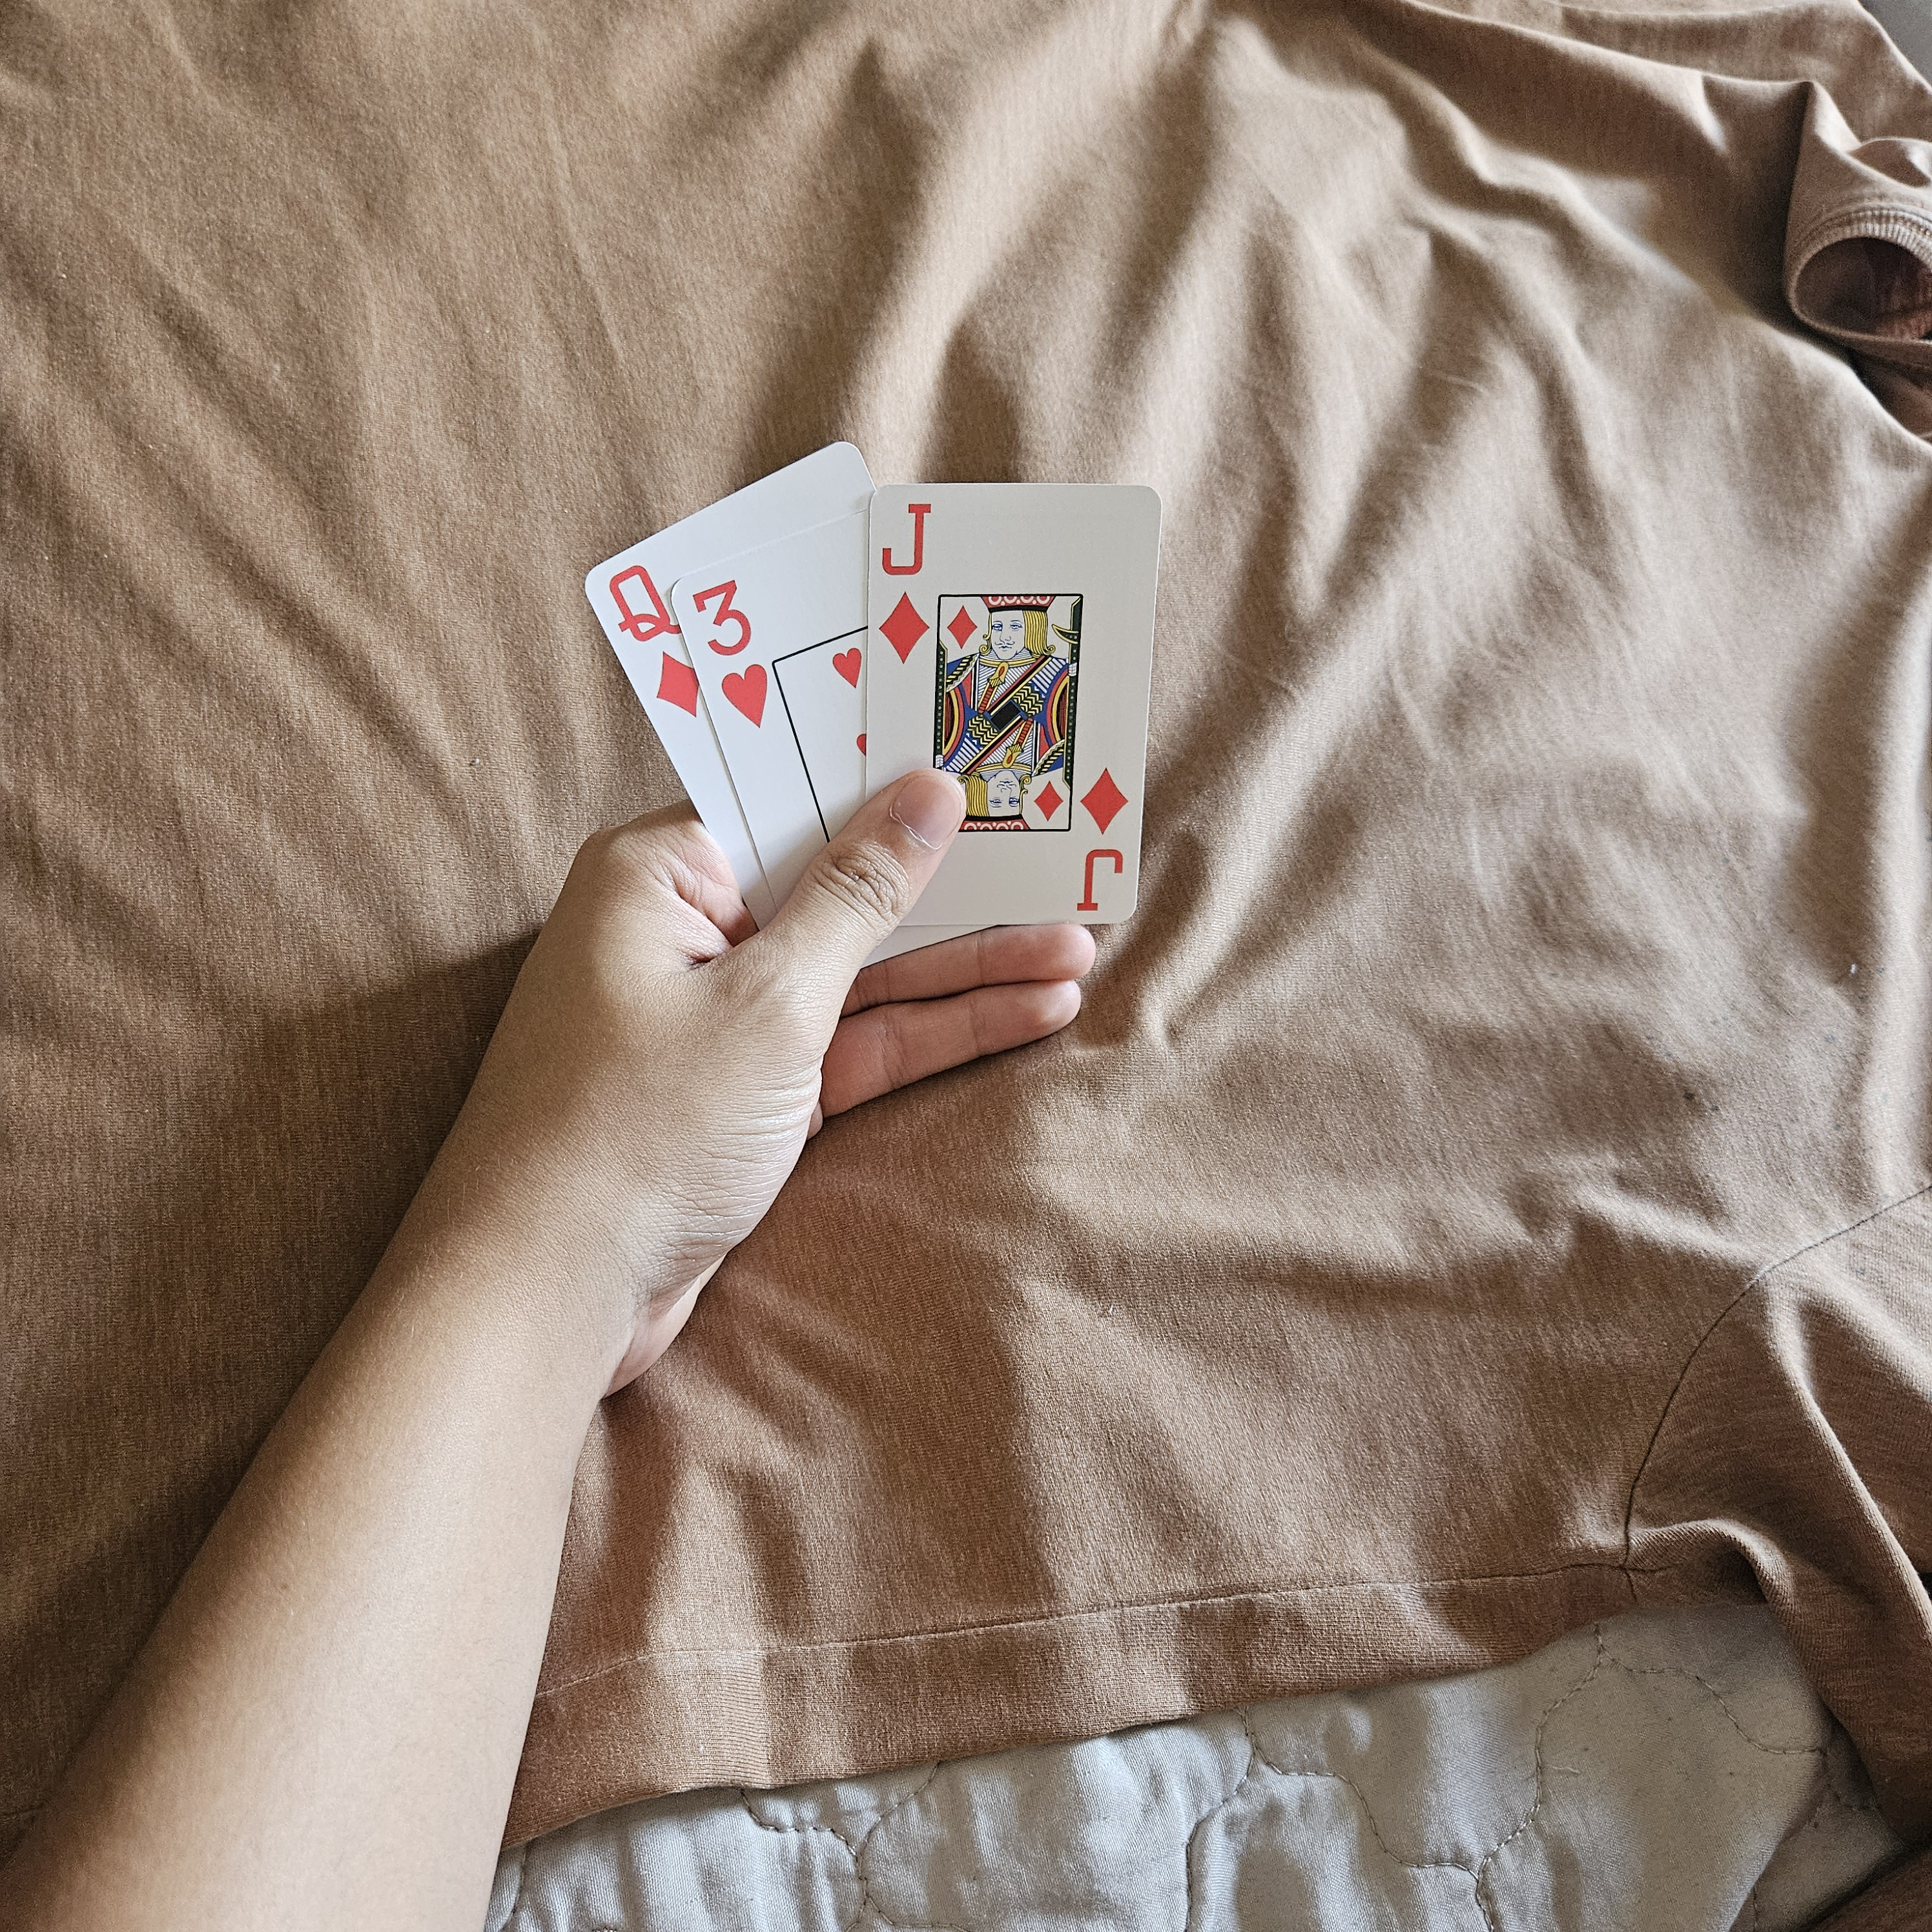3C: (690, 575, 775, 732)
JO: (869, 492, 943, 669), (1069, 754, 1138, 920)
QO: (602, 563, 702, 718)
